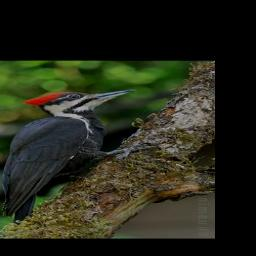Woodpecker: (0, 88, 156, 225)
